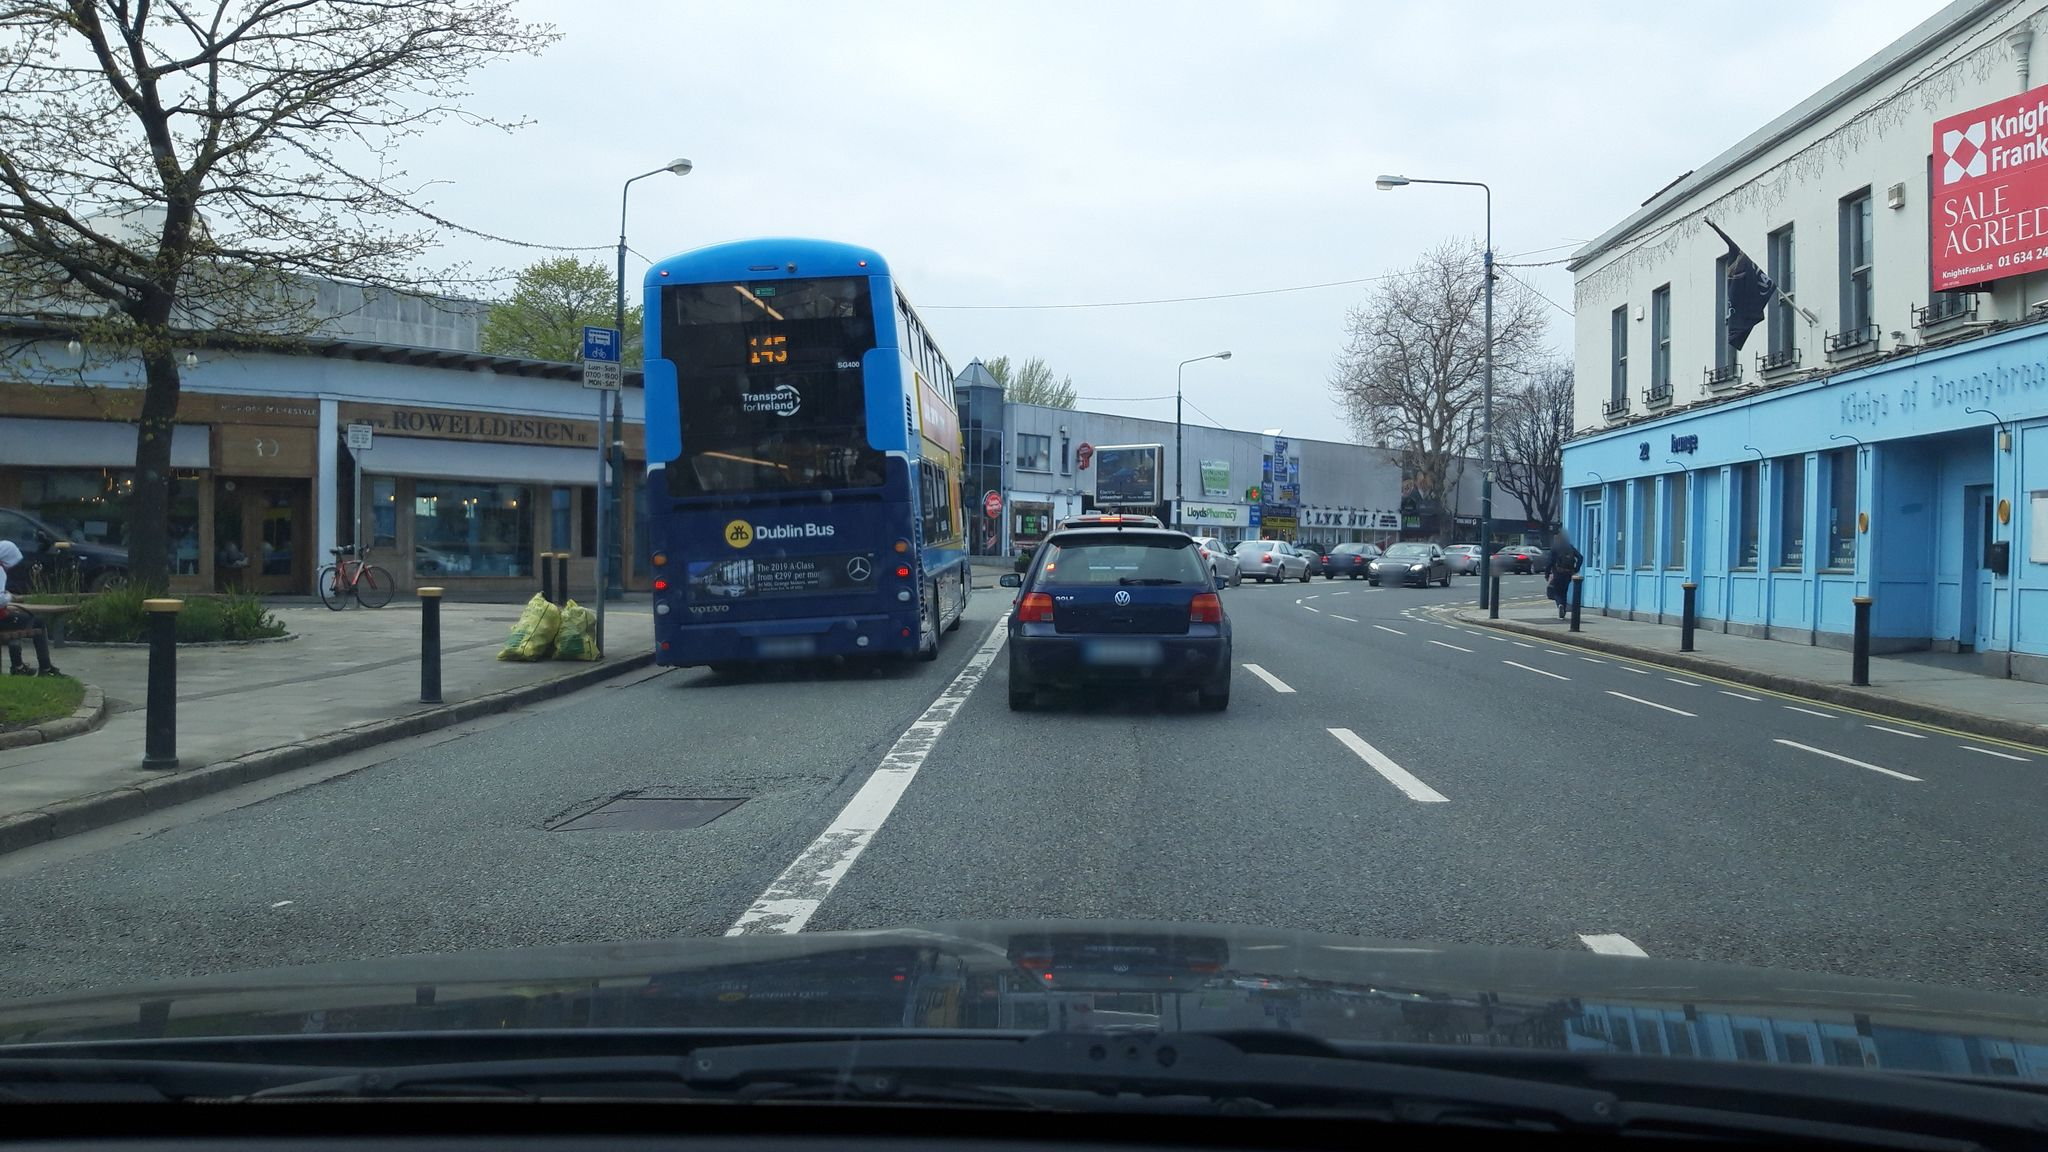property sign: (1920, 77, 2048, 288)
